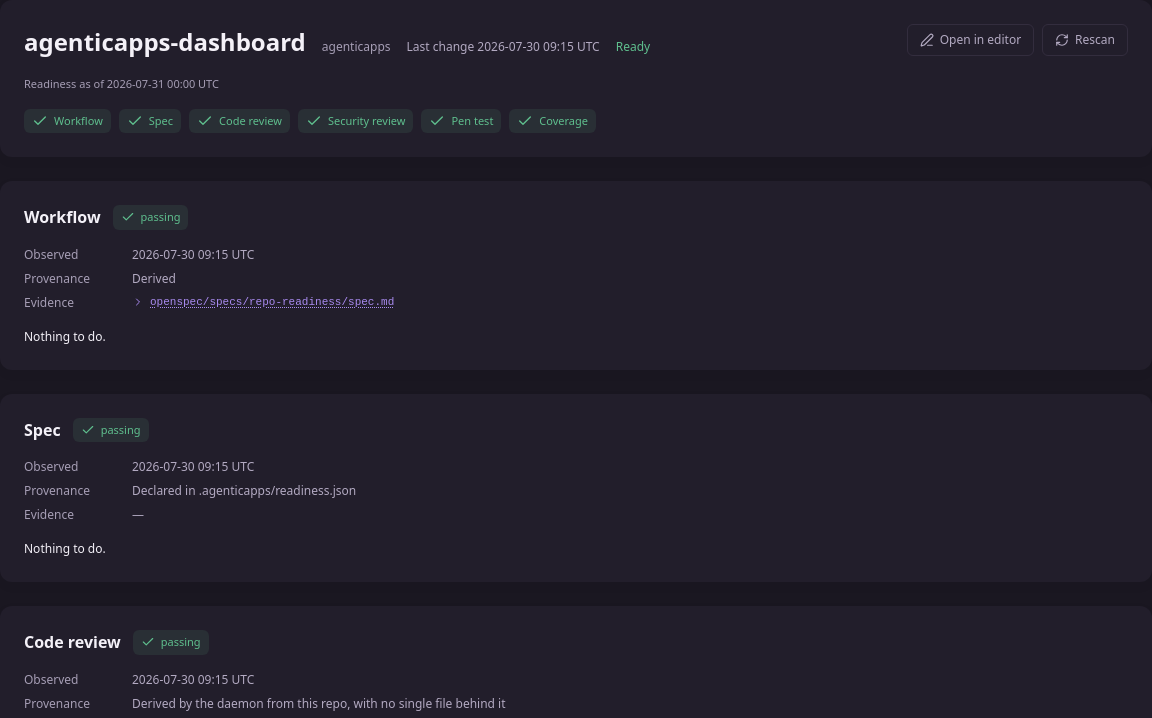
Test: RepoDetailPage evidence blocks › shows the file through the read route once the control is opened
This screenshot has width=1152, height=718.
Click the button "openspec/specs/repo-readiness/spec.md": x=263, y=302 132,294 -> 394,310
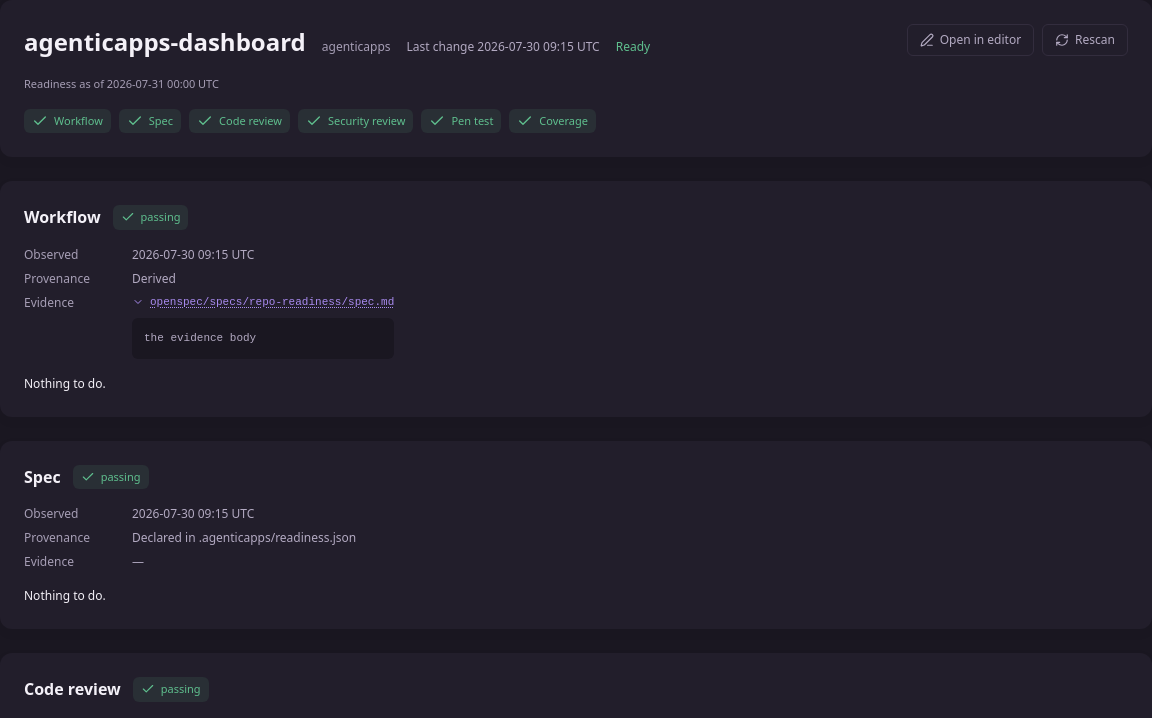
Result: the button "openspec/specs/repo-readiness/spec.md" is expanded at 132,294 -> 394,310
Result: the text "the evidence body" is shown at 132,318 -> 394,358
